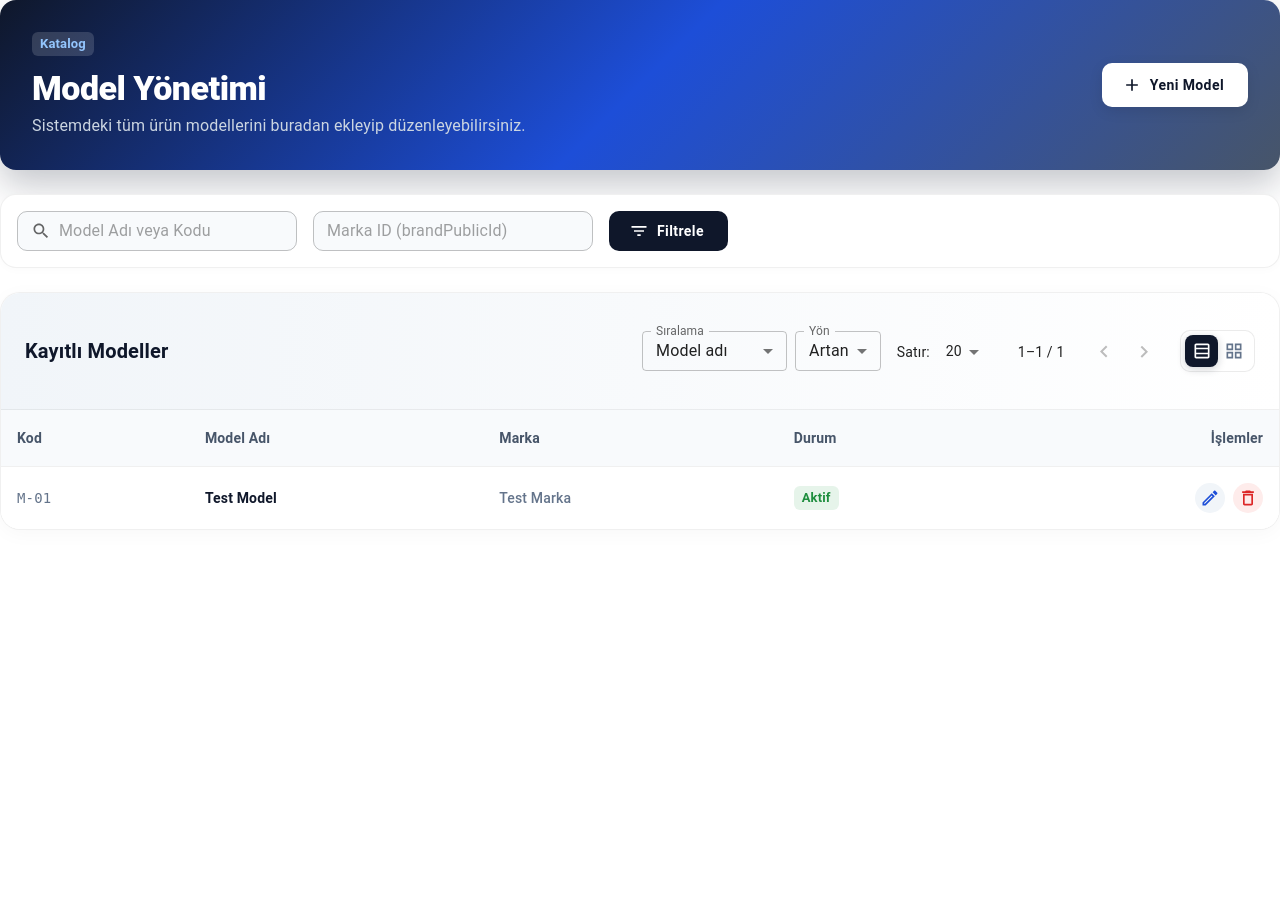
Test: ECR-07: Model Modülü Testleri › Model oluşturulurken 403 Yetkisiz Erişim (Forbidden) hatasını yakalar ve gösterir
Click the button "Yeni Model" at (1175, 85), box [1102, 63, 1248, 107]
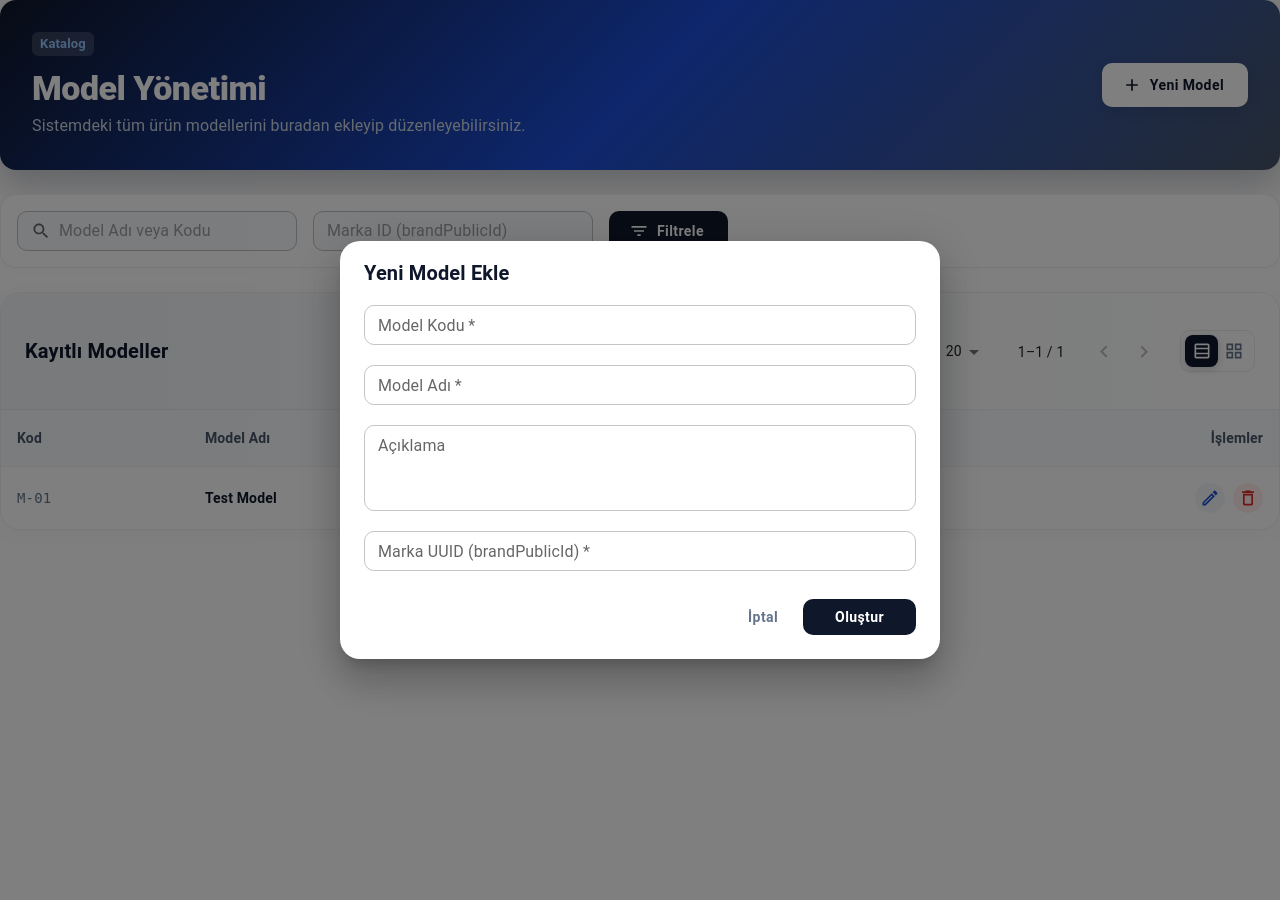
Type "TEST-CODE" into the field labelled "Model Kodu *" at (640, 325), box [364, 305, 916, 345]
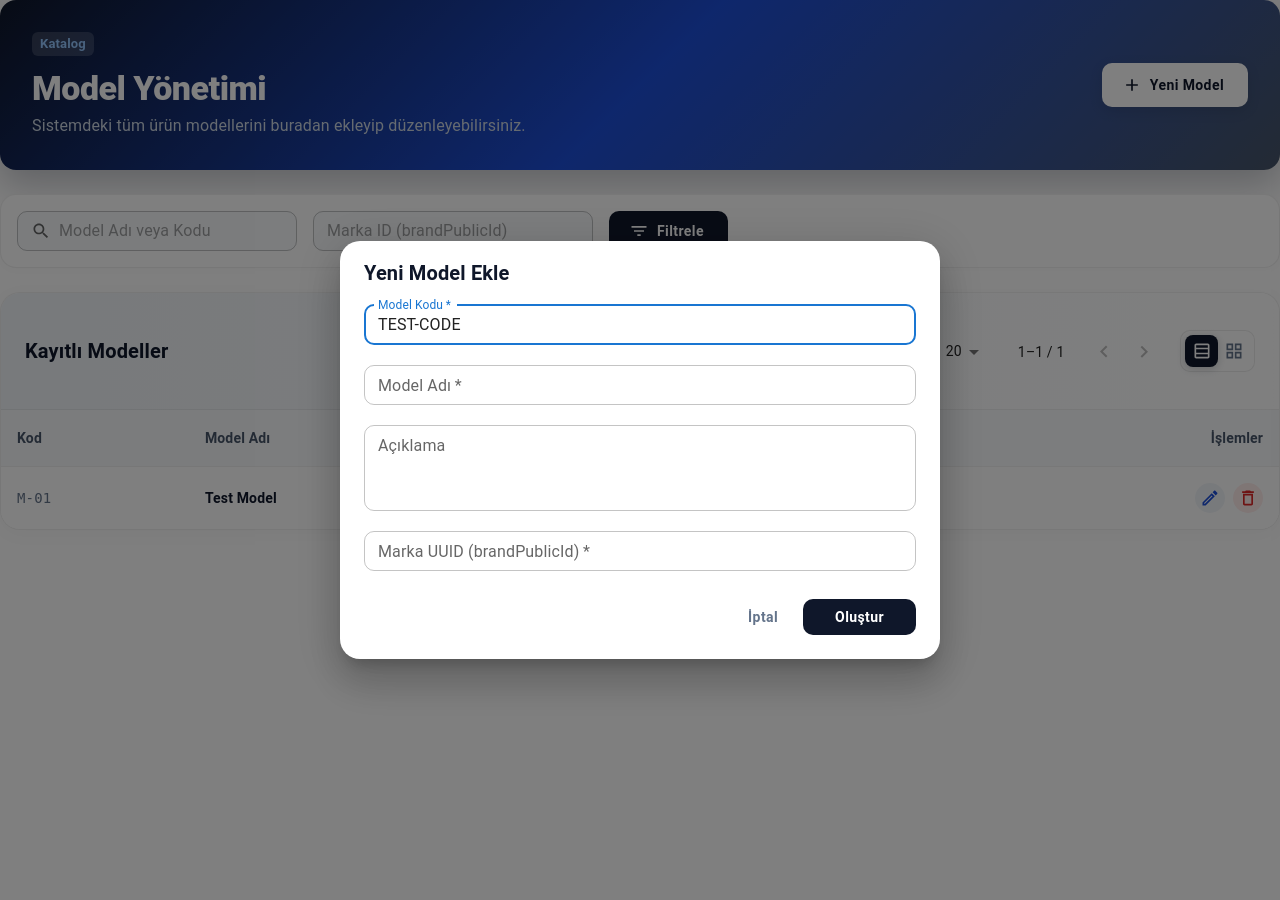
Type "TEST-NAME" into the field labelled "Model Adı *" at (640, 385), box [364, 365, 916, 405]
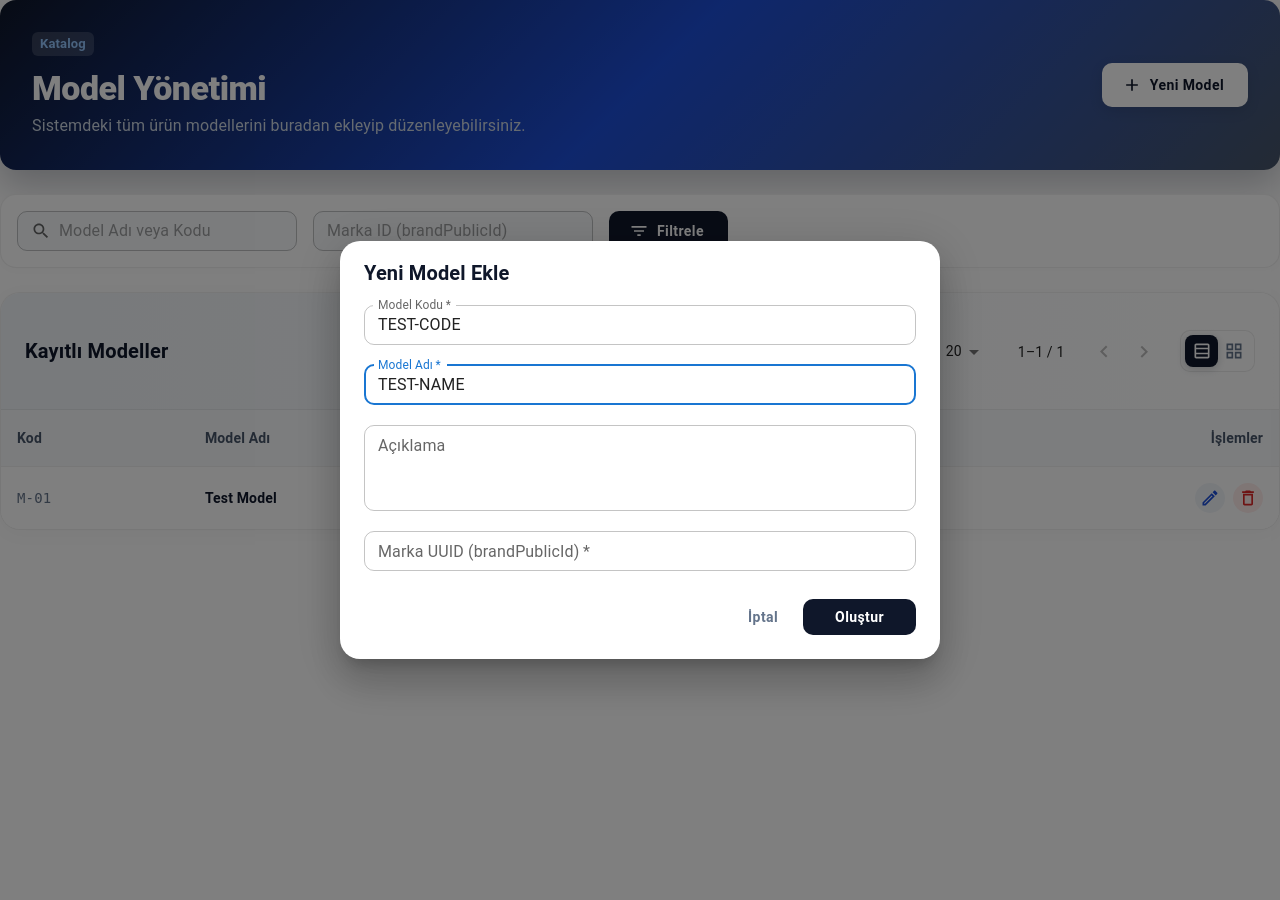
Type "test-brand-uuid" into the field labelled "Marka UUID (brandPublicId) *" at (640, 551), box [364, 531, 916, 571]
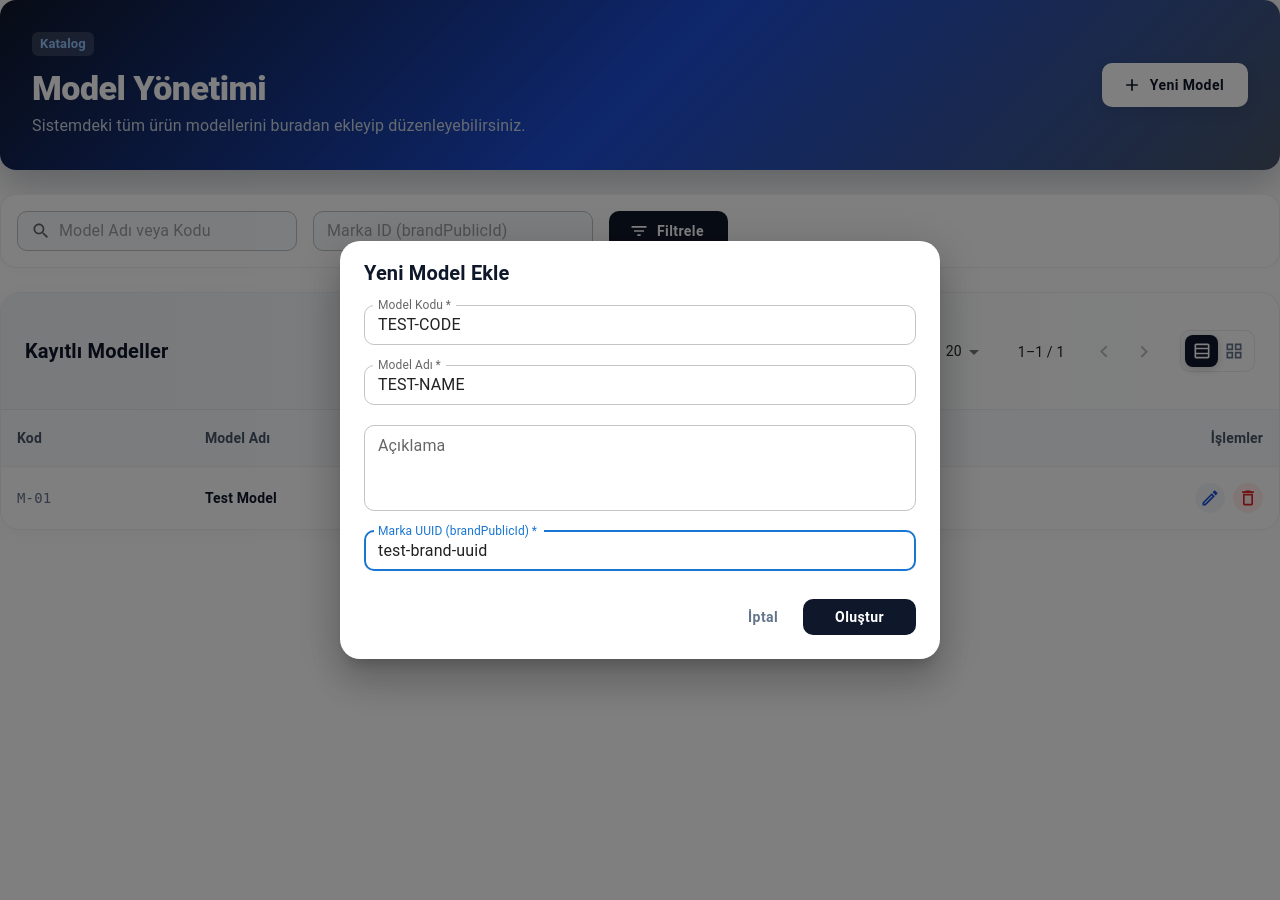
Note: "Kaydet" yerine DOM'daki gerçek adı olan "Oluştur" butonunu kullanıyoruz
Click the button "Oluştur" at (860, 617), box [803, 599, 916, 635]
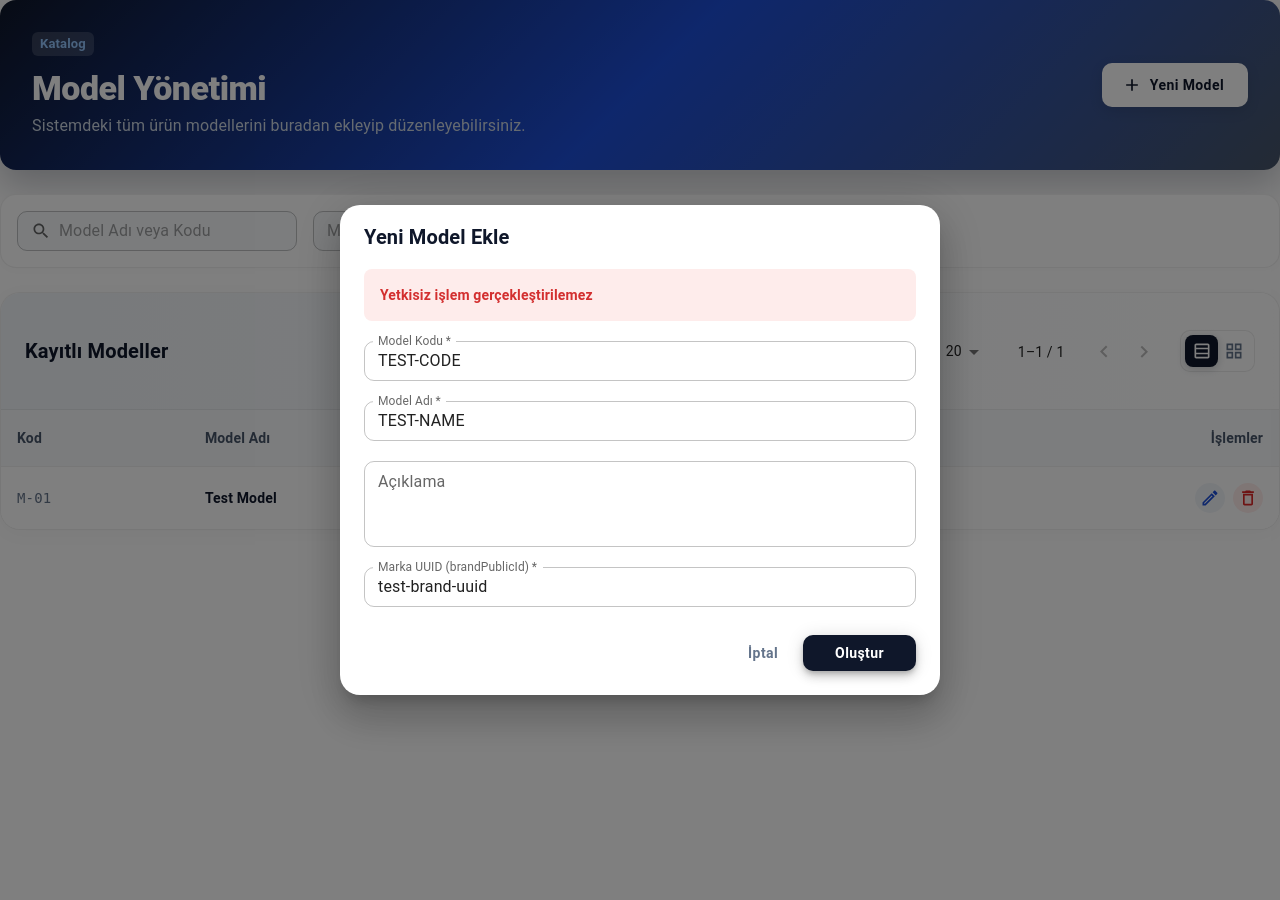
Check: the text "Yetkisiz işlem gerçekleştirilemez" is shown, box [380, 287, 593, 303]
